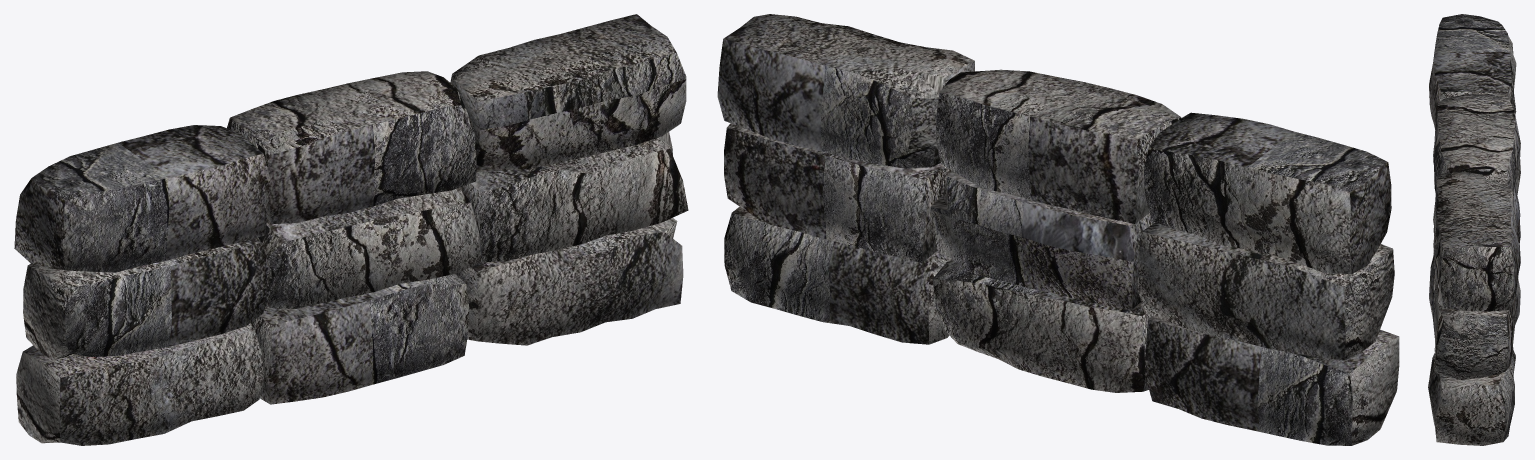
Rendered from stone_blocks.fbx.
The picture shows the model from 3 angles, left to right: view 1: azimuth 30°, elevation 25°; view 2: azimuth 150°, elevation 25°; view 3: azimuth 270°, elevation 25°; orthographic projection. The views are drawn at different scales.
Visible parts, largest first — view 1: stone_block_9, stone_block_8, stone_block_7, stone_block_6, stone_block_3, stone_block_2, stone_block_1, stone_block_4, stone_block_5; view 2: stone_block_9, stone_block_7, stone_block_8, stone_block_6, stone_block_3, stone_block_4, stone_block_1, stone_block_5, stone_block_2; view 3: stone_block_7, stone_block_8, stone_block_9, stone_block_1, stone_block_4, stone_block_2, stone_block_5, stone_block_6.
Boxes of the visible parts, x1,y1,x2,y2 form: stone_block_9: (14,125,270,272); stone_block_8: (227,71,476,223); stone_block_7: (450,14,686,172); stone_block_6: (23,237,270,360); stone_block_3: (16,323,264,445); stone_block_2: (251,274,469,404); stone_block_1: (455,218,683,345); stone_block_4: (460,132,688,262); stone_block_5: (258,187,481,308); stone_block_9: (1143,112,1391,274); stone_block_7: (717,14,974,168); stone_block_8: (936,69,1181,223); stone_block_6: (1137,222,1394,360); stone_block_3: (1144,316,1399,445); stone_block_4: (724,123,951,262); stone_block_1: (724,206,952,344); stone_block_5: (930,171,1155,310); stone_block_2: (932,260,1151,392); stone_block_7: (1433,171,1520,311); stone_block_8: (1433,94,1520,192); stone_block_9: (1429,14,1516,129); stone_block_1: (1428,347,1515,445); stone_block_4: (1434,277,1520,379); stone_block_2: (1429,255,1434,337); stone_block_5: (1434,186,1520,290); stone_block_6: (1433,145,1520,194).
Bounding box in the file's own units: 132 × 52.72 × 21.61.
Materials: 1 (1 with a texture image).
